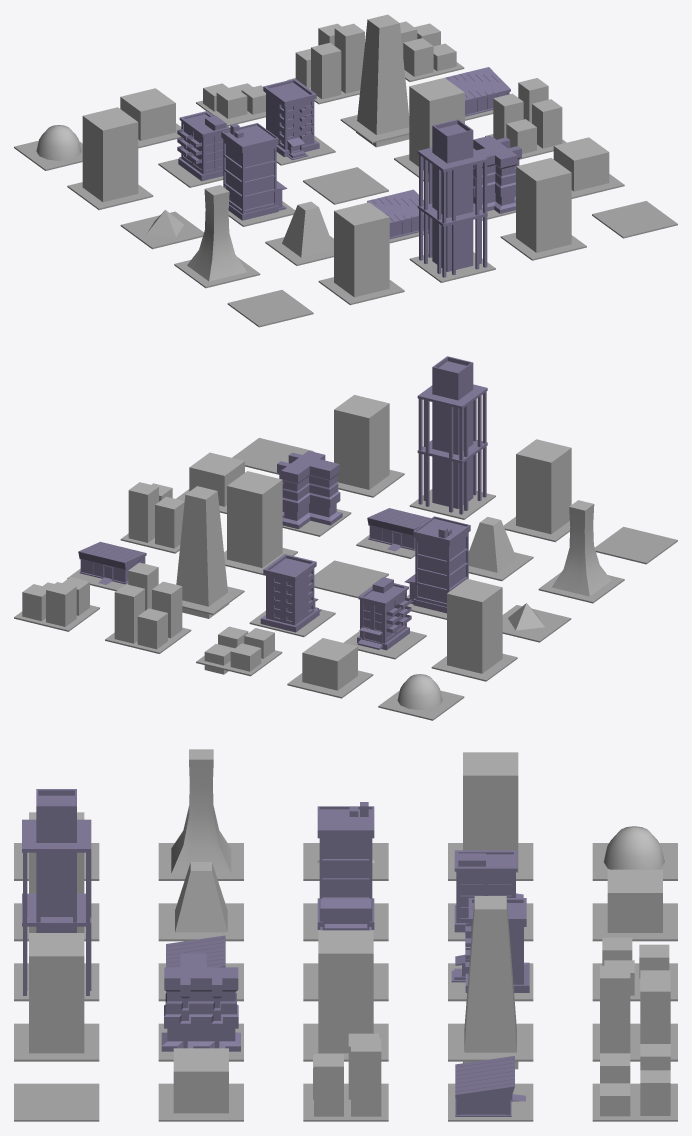
The model's file is city.glb.
3 renders of one model, top to bottom at view 1: azimuth 30°, elevation 25°; view 2: azimuth 150°, elevation 25°; view 3: azimuth 270°, elevation 25°, orthographic. The views are drawn at different scales.
Parts seen in each view (by area): view 1: Cube 0 (×15), building2 2, Cube.2 18, House_3.1 11, Cube.1 15, Cube 1, Cube.1 3, Cloner.1, Cloner.3, House_2 17, Cube 13, Cube.2 6.1 (+11 smaller); view 2: Cube 0 (×16), building2 2, Cube.2 18, Cube 13, Cube.1 15, Cube 1, Cube.1 3, Cloner.1, House_3.1 11, Building1.1 8, House_2 17, House 16 (+11 smaller); view 3: Cube 0 (×25), building2 2, Cube.2 18, House_3.1 11, Cube.1 3, Building1.1 8, Cube 13, Cube.1 15, Cloner.1, Cloner.3, Cube.2 6.1, Cloner.2 (+10 smaller).
Boxes of the visible parts, <box> form: Cube 0 (×15): <box>14,115,677,327</box>; building2 2: <box>417,119,487,277</box>; Cube.2 18: <box>356,14,409,147</box>; House_3.1 11: <box>221,123,287,220</box>; Cube.1 15: <box>82,107,138,202</box>; Cube 1: <box>334,202,389,297</box>; Cube.1 3: <box>516,158,571,252</box>; Cloner.1: <box>295,23,364,99</box>; Cloner.3: <box>493,78,562,153</box>; House_2 17: <box>263,78,319,159</box>; Cube 13: <box>409,77,464,173</box>; Cube.2 6.1: <box>187,185,246,281</box>; Cube 0 (×16): <box>14,438,677,720</box>; building2 2: <box>417,356,487,514</box>; Cube.2 18: <box>176,486,229,618</box>; Cube 13: <box>227,471,282,567</box>; Cube.1 15: <box>447,578,502,673</box>; Cube 1: <box>516,439,571,534</box>; Cube.1 3: <box>334,395,389,489</box>; Cloner.1: <box>114,562,182,649</box>; House_3.1 11: <box>405,516,470,613</box>; Building1.1 8: <box>277,450,342,529</box>; House_2 17: <box>260,554,321,632</box>; House 16: <box>357,577,411,650</box>; Cube 0 (×25): <box>14,843,677,1121</box>; building2 2: <box>22,789,91,995</box>; Cube.2 18: <box>463,896,518,1069</box>; House_3.1 11: <box>317,802,374,930</box>; Cube.1 3: <box>29,933,84,1053</box>; Building1.1 8: <box>161,953,240,1051</box>; Cube 13: <box>318,930,373,1053</box>; Cube.1 15: <box>463,752,518,872</box>; Cloner.1: <box>600,965,670,1053</box>; Cloner.3: <box>313,1033,381,1116</box>; Cube.2 6.1: <box>171,749,231,873</box>; Cloner.2: <box>600,1044,670,1116</box>.
Size of the model in its own units: 15348 by 5163 by 15556.
